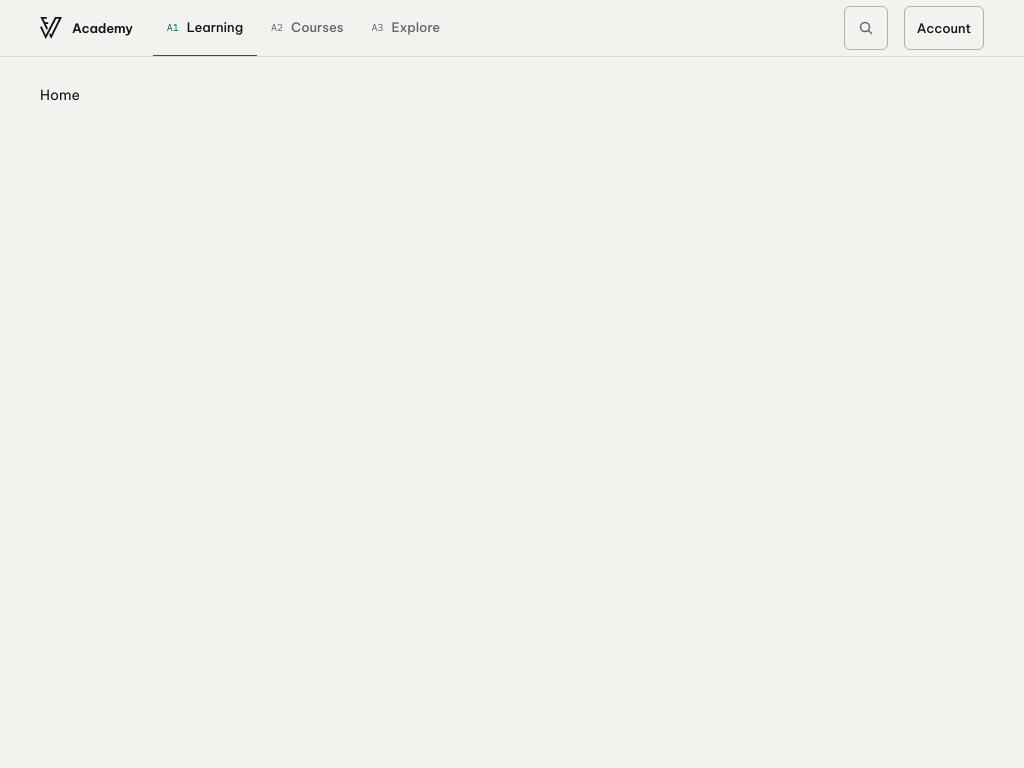
it: learner command menu actions › applies a theme through the workspace theme helper without navigating
Press k in the heading "Home", box left=40, top=86, right=80, bottom=104
(page scrolled)
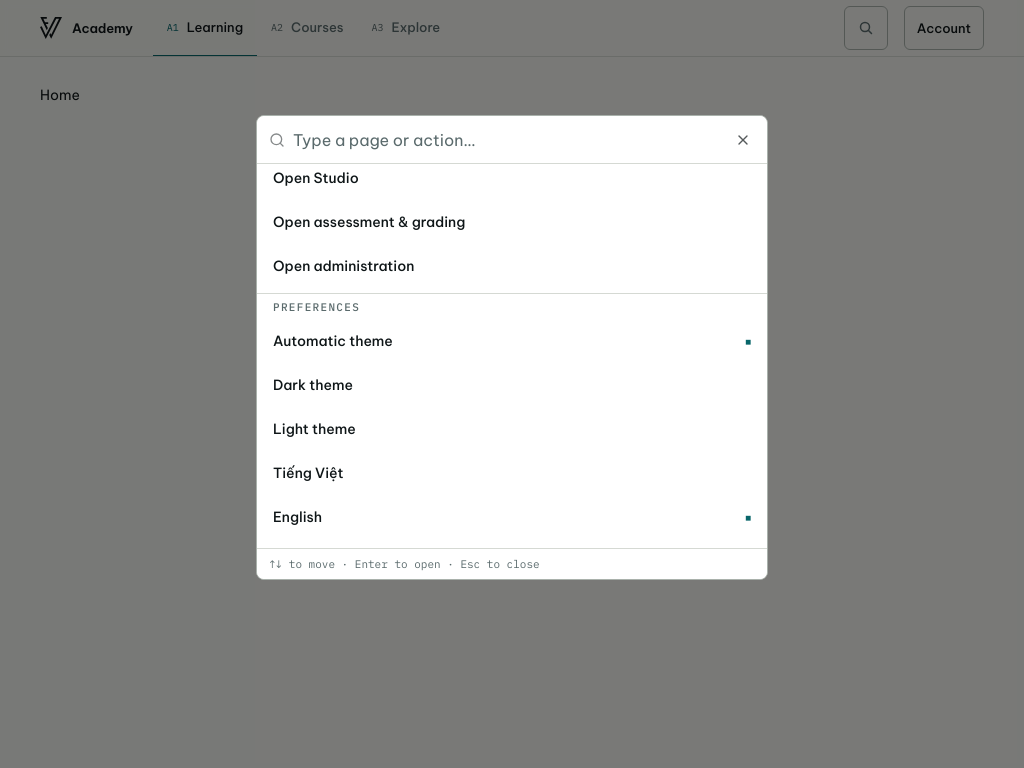
Click the option "Dark theme".
click(313, 385)  # box left=273, top=376, right=353, bottom=394
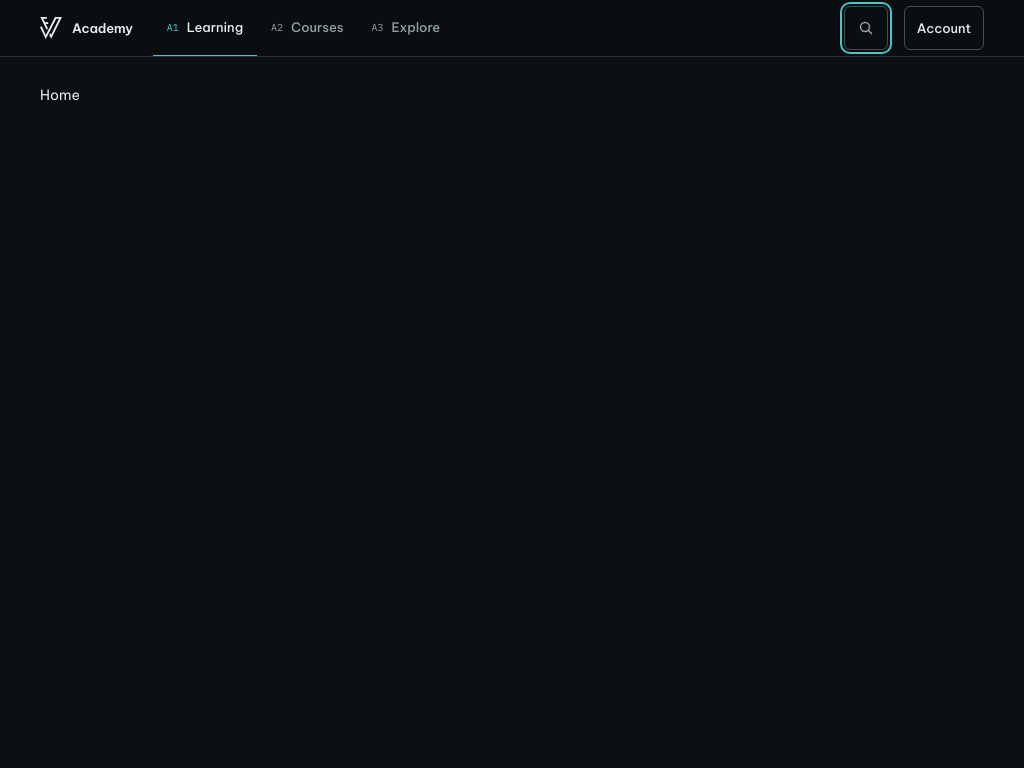
Check: the dialog is gone
Press k in the button named "Search or jump to…", box left=844, top=6, right=888, bottom=50
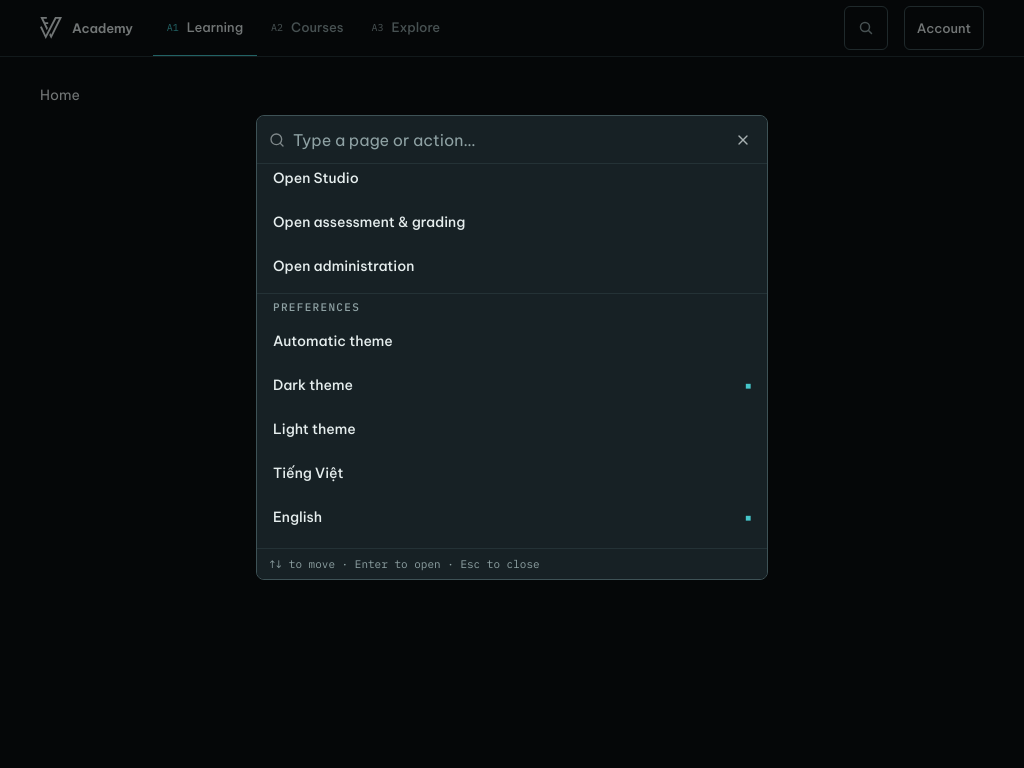
Check: the option "Dark theme ■" is shown, box left=273, top=376, right=767, bottom=394
